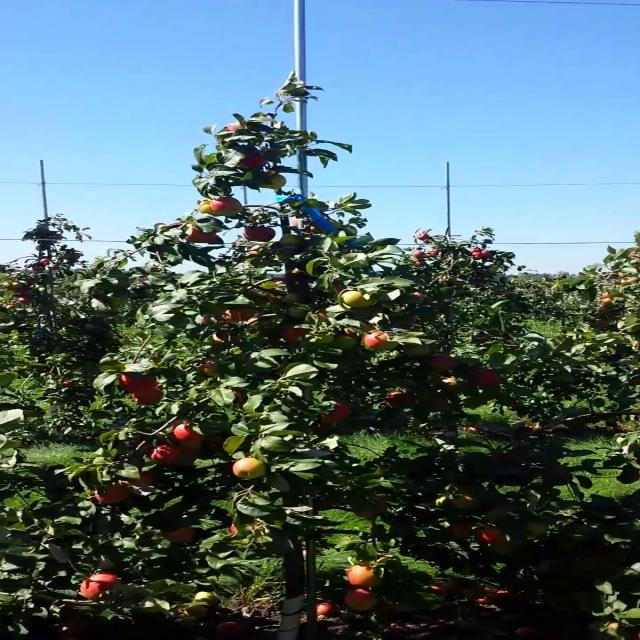apple: (80, 574, 129, 599), (343, 588, 378, 610), (234, 457, 268, 479), (348, 566, 382, 588), (364, 331, 400, 351), (94, 485, 130, 504), (183, 225, 218, 243), (120, 376, 158, 392), (210, 198, 242, 216), (342, 290, 374, 308), (150, 446, 182, 464), (132, 389, 166, 405), (341, 322, 375, 338), (163, 525, 193, 543), (428, 354, 457, 372), (242, 225, 274, 241), (476, 528, 508, 544), (174, 422, 202, 440), (323, 404, 349, 422), (222, 308, 254, 322), (354, 506, 386, 520), (128, 472, 155, 488), (238, 155, 268, 169), (448, 523, 474, 539), (474, 370, 498, 386), (450, 496, 481, 508), (282, 326, 308, 340), (386, 392, 408, 408), (174, 440, 203, 452), (428, 376, 462, 386), (262, 175, 286, 189), (388, 525, 416, 537), (332, 336, 358, 348), (198, 202, 220, 216), (528, 523, 548, 538), (406, 345, 428, 357), (202, 361, 218, 377), (280, 234, 302, 245), (95, 559, 117, 569), (195, 313, 212, 325), (224, 122, 244, 132), (434, 496, 450, 508), (326, 219, 342, 229), (288, 308, 308, 316), (212, 332, 226, 343), (262, 340, 280, 348), (316, 335, 334, 343), (282, 295, 300, 303), (250, 246, 263, 254), (310, 225, 323, 233), (290, 216, 300, 226), (314, 310, 326, 318), (230, 524, 238, 534), (302, 550, 307, 558)
